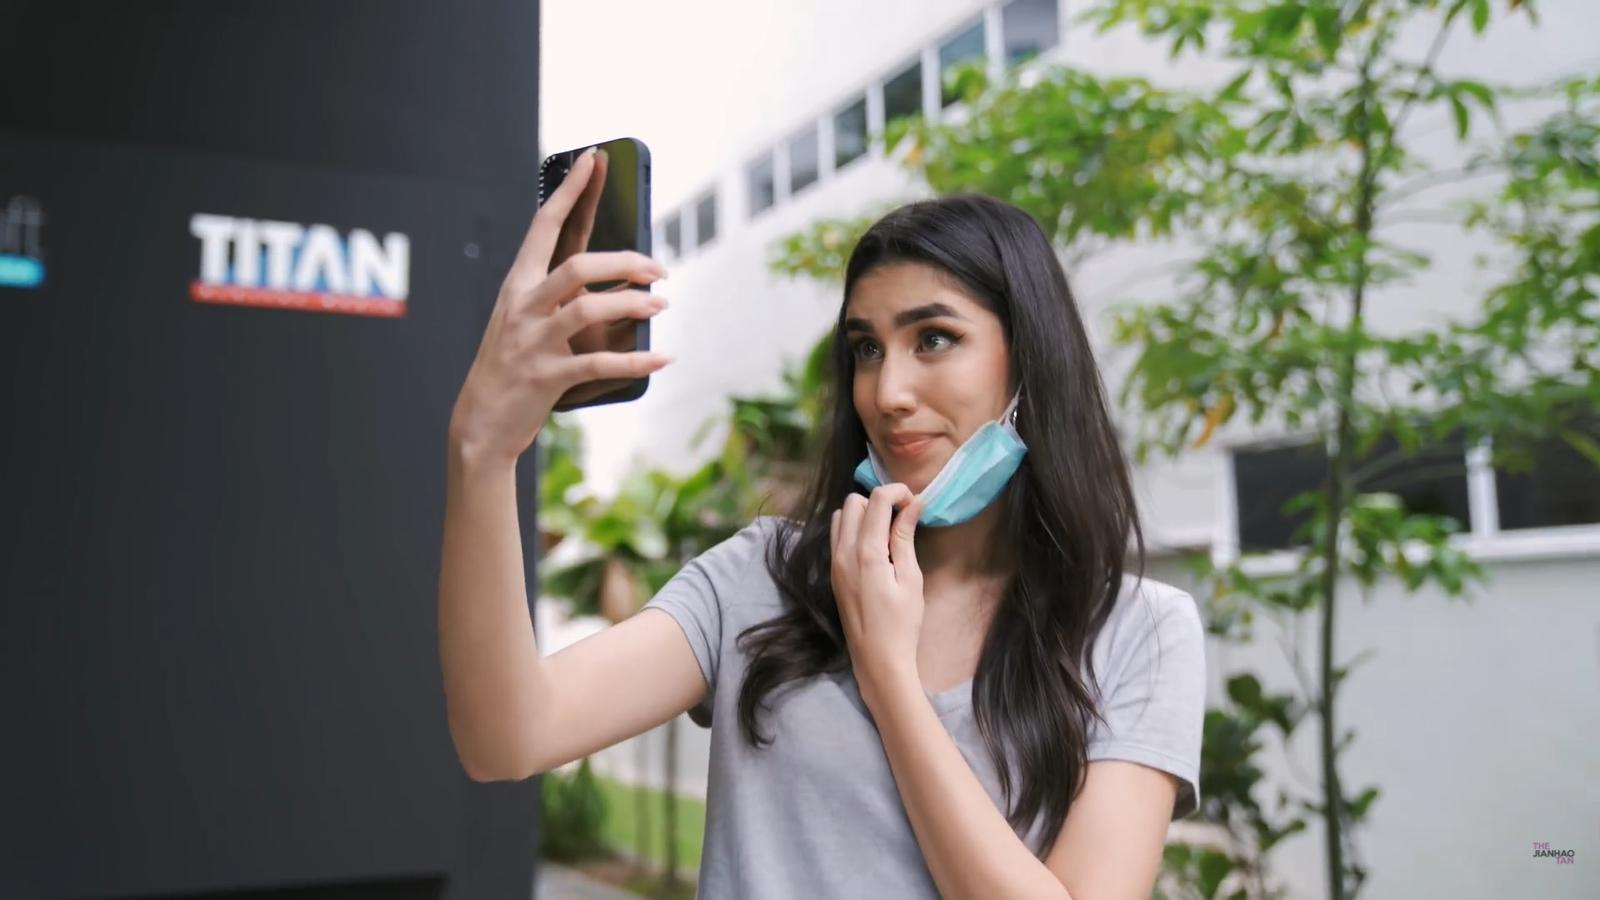with_incorrect_mask: (860, 305, 977, 491)
